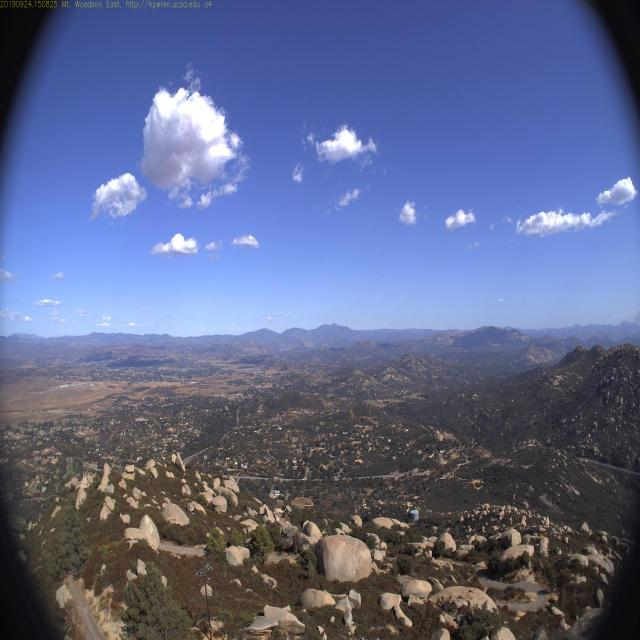smoke: (624, 306, 640, 334)
